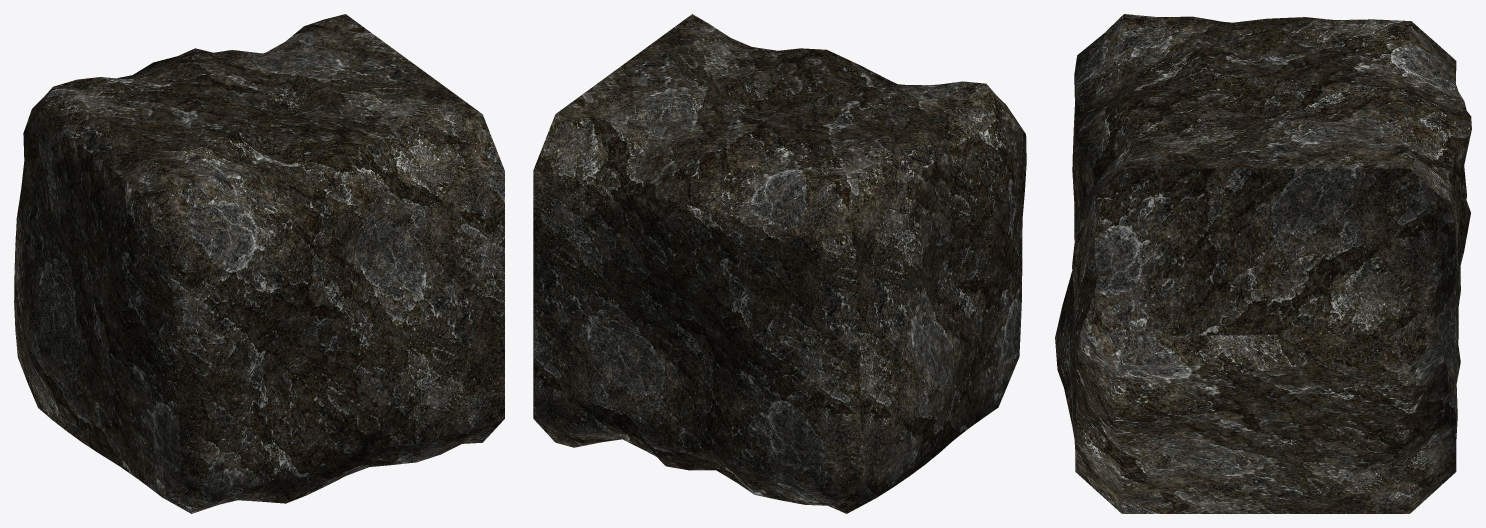
File: Cave_042.fbx
3 views of the same model, side by side, from view 1: azimuth 30°, elevation 25°; view 2: azimuth 150°, elevation 25°; view 3: azimuth 270°, elevation 25° (orthographic). The views are drawn at different scales.
Visible parts, largest first — view 1: Cave.042; view 2: Cave.042; view 3: Cave.042.
Boxes of the visible parts, x1,y1,x2,y2 form: Cave.042: (14,14,504,513); Cave.042: (533,14,1026,513); Cave.042: (1055,14,1471,513).
Size of the model in its own units: 326 by 313 by 328.
